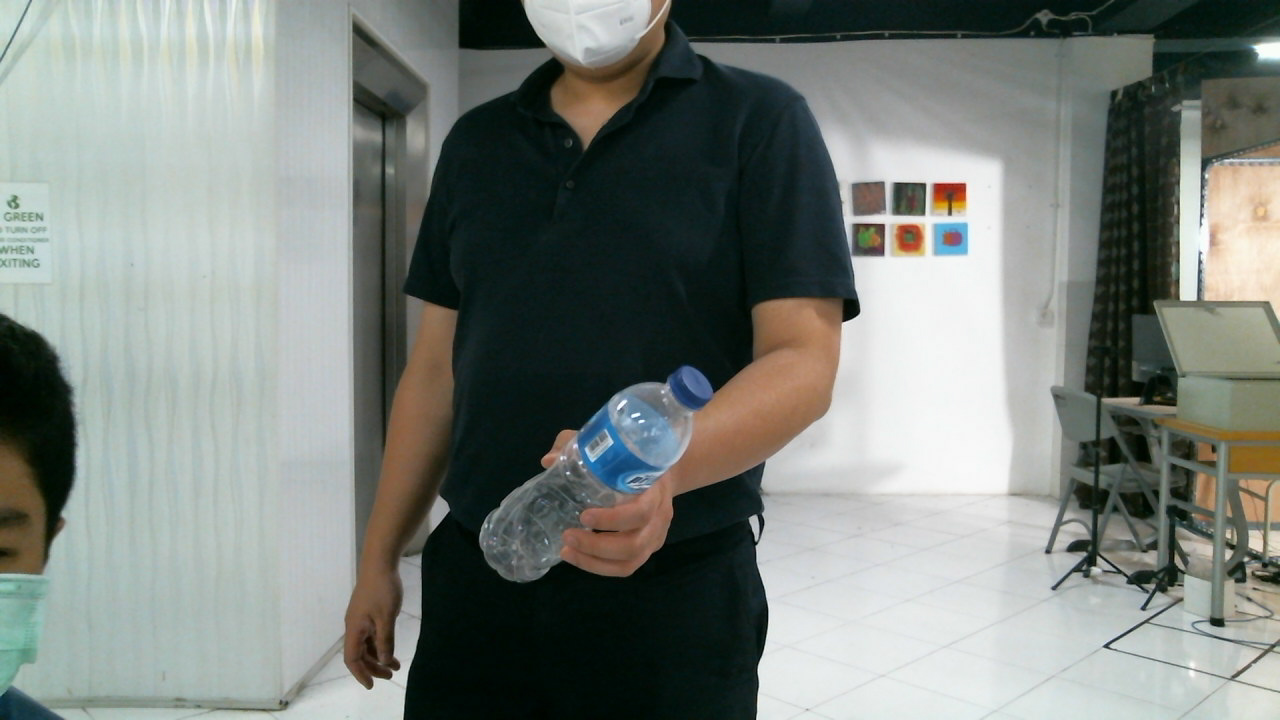Bottle: (476, 363, 711, 583)
